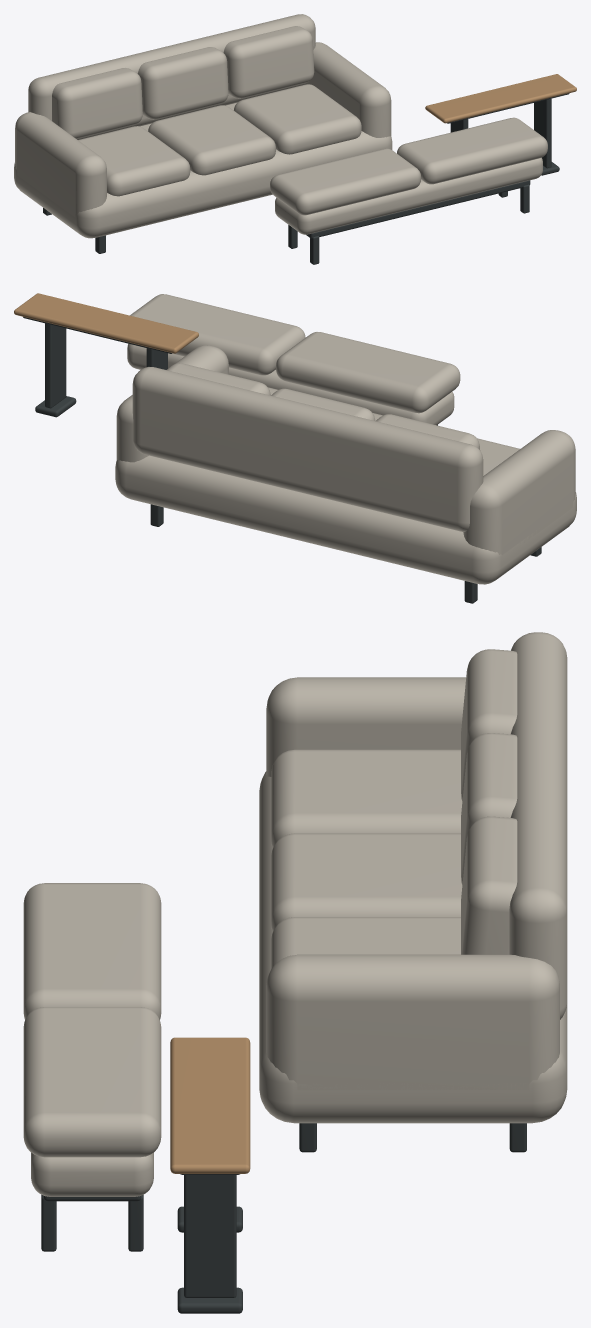
The picture shows the model from 3 angles, top to bottom: view 1: azimuth 30°, elevation 25°; view 2: azimuth 150°, elevation 25°; view 3: azimuth 270°, elevation 25°; orthographic projection. The views are drawn at different scales.
Visible parts, largest first — view 1: BATCH_GreigeFabric, BATCH_GraphiteMetal, BATCH_WarmTableSurface; view 2: BATCH_GreigeFabric, BATCH_WarmTableSurface, BATCH_GraphiteMetal; view 3: BATCH_GreigeFabric, BATCH_GraphiteMetal, BATCH_WarmTableSurface.
Boxes of the visible parts, left/top/right/bottom form: BATCH_GreigeFabric: left=14, top=14, right=547, bottom=238; BATCH_GraphiteMetal: left=43, top=93, right=569, bottom=264; BATCH_WarmTableSurface: left=425, top=74, right=576, bottom=123; BATCH_GreigeFabric: left=115, top=294, right=576, bottom=584; BATCH_WarmTableSurface: left=14, top=293, right=198, bottom=353; BATCH_GraphiteMetal: left=23, top=317, right=541, bottom=603; BATCH_GreigeFabric: left=23, top=632, right=567, bottom=1196; BATCH_GraphiteMetal: left=41, top=1123, right=526, bottom=1313; BATCH_WarmTableSurface: left=170, top=1037, right=250, bottom=1173.
Size of the model in its own units: 3 by 0.8 by 1.5.
